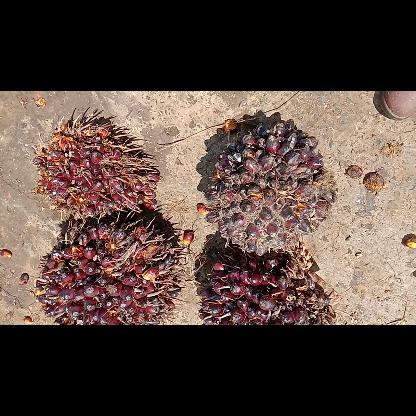Kurang masak: (31, 210, 200, 324), (206, 121, 335, 255), (30, 113, 160, 223), (195, 250, 334, 324)
